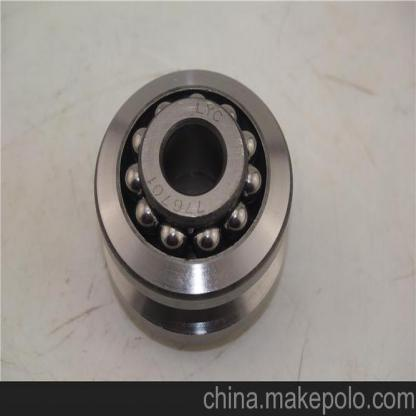FOD: (89, 54, 296, 352)
